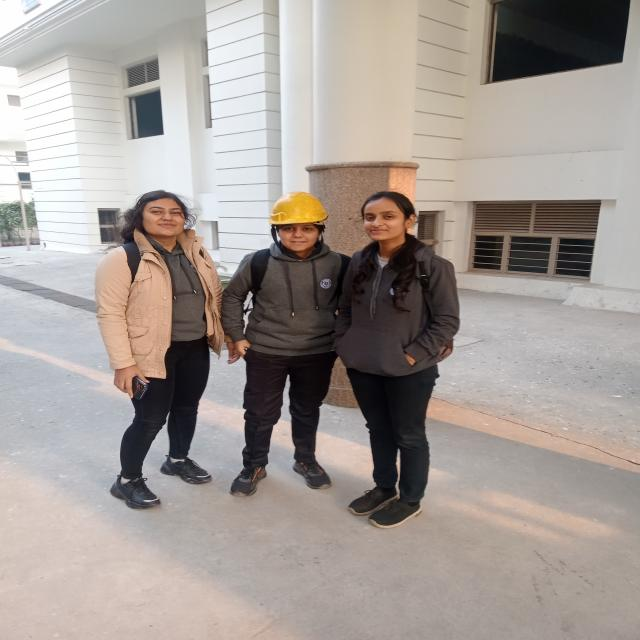no jacket: (227, 189, 342, 498)
unsafe: (96, 189, 222, 511), (347, 188, 440, 528)
